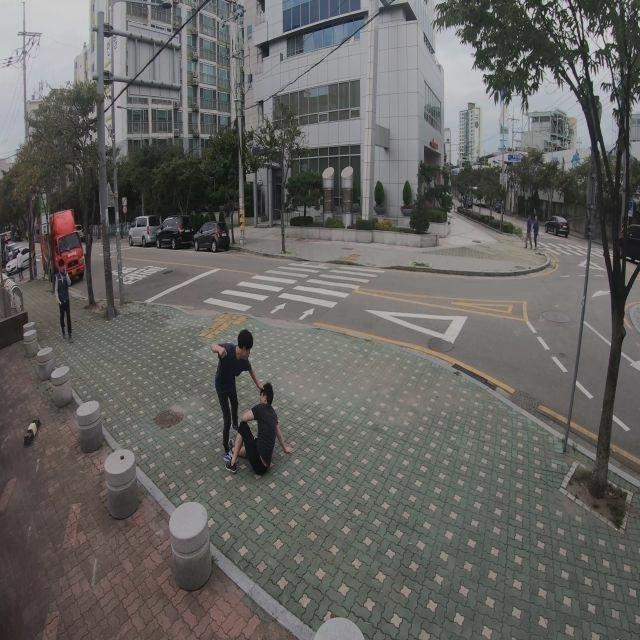fight: (210, 326, 295, 475)
non-fight: (54, 261, 75, 340)
